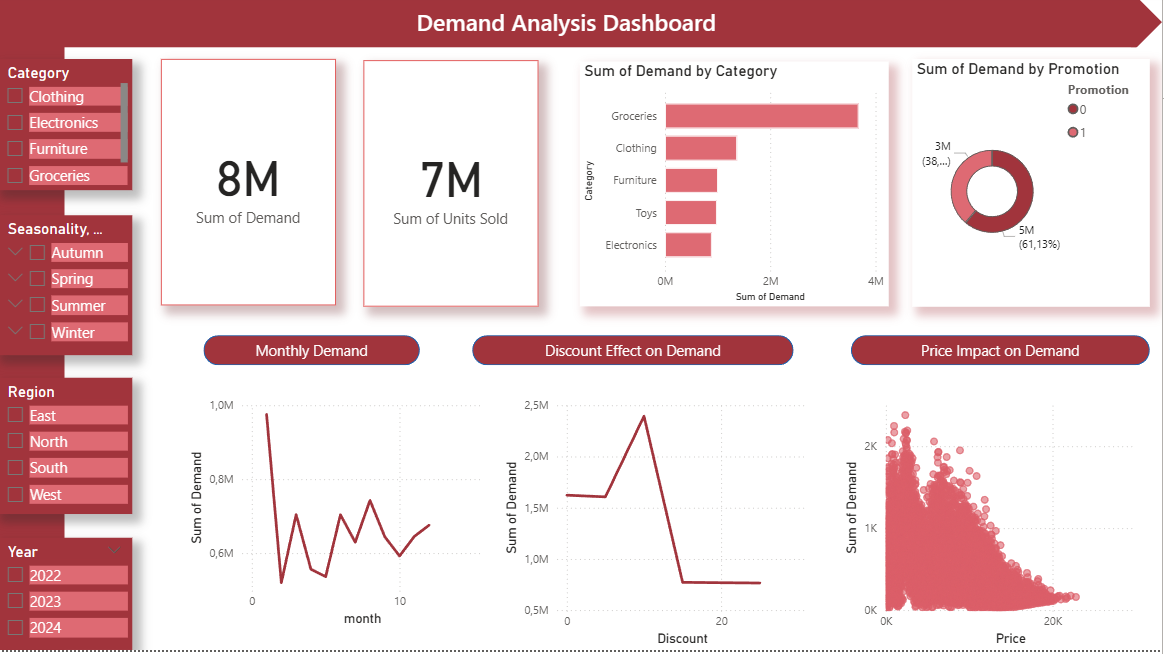

The page's visual inventory and layout, read from the dashboard file:
{"tool":"powerbi","page":{"name":"Page 4","canvas":[1280,720],"ordinal":0},"visuals":[{"type":"shape","box":[0,2.7,1280.3,52.1],"z":0},{"type":"shape","box":[0,43.9,75.5,676.5],"z":1000},{"type":"slicer","title":"gdf","fields":{"Values":["cleaned_data.Region"]},"box":[0,421.3,149.6,149.6],"z":2000},{"type":"slicer","fields":{"Values":["cleaned_data.Category"]},"box":[0,71.4,149.6,144.1],"z":3000},{"type":"slicer","fields":{"Values":["cleaned_data.Seasonality","cleaned_data.Weather Condition"]},"box":[0,242.9,149.6,153.7],"z":4000},{"type":"card","fields":{"Values":["Sum(cleaned_data.Demand)"]},"box":[181.1,71.4,181.1,144.1],"z":5000},{"type":"shape","box":[628.5,404.8,273.1,32.9],"z":6000},{"type":"donutChart","fields":{"Category":["cleaned_data.Promotion"],"Y":["Sum(cleaned_data.Demand)"]},"box":[1092.3,90.6,171.5,284],"z":7000},{"type":"barChart","fields":{"Y":["Sum(cleaned_data.Demand)"],"Category":["cleaned_data.Category"]},"box":[411.7,90.6,337.6,284],"z":8000},{"type":"slicer","fields":{"Values":["cleaned_data.year"]},"box":[0,596.9,149.6,123.5],"z":9000},{"type":"lineChart","fields":{"Y":["Sum(cleaned_data.Demand)"],"Category":["cleaned_data.month"]},"box":[935.9,454.2,328,255.2],"z":10000},{"type":"shape","box":[993.5,404.8,237.4,32.9],"z":11000},{"type":"shape","box":[167.4,404.8,413,32.9],"z":13000},{"type":"stackedAreaChart","fields":{"Category":["cleaned_data.Demand"],"Y":["Sum(cleaned_data.Price)","Sum(cleaned_data.Competitor Pricing)"]},"box":[175.6,454.2,465.2,260.7],"z":14000},{"type":"card","fields":{"Values":["Sum(cleaned_data.Units Sold)"]},"box":[181.1,229.2,181.1,145.5],"z":15000},{"type":"lineChart","fields":{"Y":["Sum(cleaned_data.Demand)"],"Category":["cleaned_data.Inventory Level"]},"box":[764.3,90.6,300.5,284],"z":16000},{"type":"lineChart","fields":{"Y":["Sum(cleaned_data.Demand)"],"Category":["cleaned_data.Discount"]},"box":[602.4,437.7,312.9,282.7],"z":16001}]}

Visuals, with their boxes in screenshot pixels (x1, y1, x2, y2), scaled from the page's 1280x720 canvas onto the 1164x654 screenshot:
shape: left=0, top=2, right=1163, bottom=50
shape: left=0, top=40, right=69, bottom=653
"gdf" slicer: left=0, top=383, right=136, bottom=519
slicer - cleaned_data.Category: left=0, top=65, right=136, bottom=196
slicer - cleaned_data.Seasonality x cleaned_data.Weather Condition: left=0, top=221, right=136, bottom=360
card - Sum(cleaned_data.Demand): left=165, top=65, right=329, bottom=196
shape: left=572, top=368, right=820, bottom=398
donutChart - cleaned_data.Promotion x Sum(cleaned_data.Demand): left=993, top=82, right=1149, bottom=340
barChart - Sum(cleaned_data.Demand) x cleaned_data.Category: left=374, top=82, right=681, bottom=340
slicer - cleaned_data.year: left=0, top=542, right=136, bottom=653
lineChart - Sum(cleaned_data.Demand) x cleaned_data.month: left=851, top=413, right=1149, bottom=644
shape: left=903, top=368, right=1119, bottom=398
shape: left=152, top=368, right=528, bottom=398
stackedAreaChart - cleaned_data.Demand x Sum(cleaned_data.Price): left=160, top=413, right=583, bottom=649
card - Sum(cleaned_data.Units Sold): left=165, top=208, right=329, bottom=340
lineChart - Sum(cleaned_data.Demand) x cleaned_data.Inventory Level: left=695, top=82, right=968, bottom=340
lineChart - Sum(cleaned_data.Demand) x cleaned_data.Discount: left=548, top=398, right=832, bottom=653
